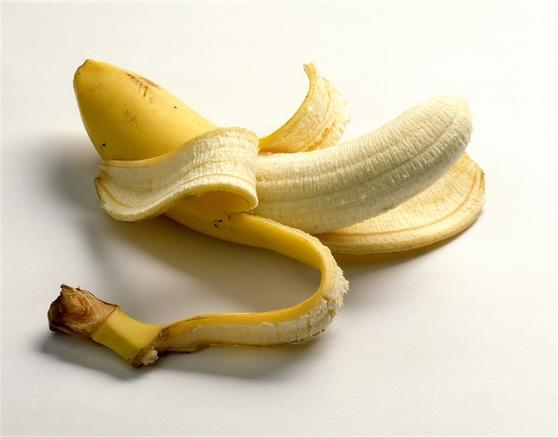banana: (40, 40, 522, 272)
